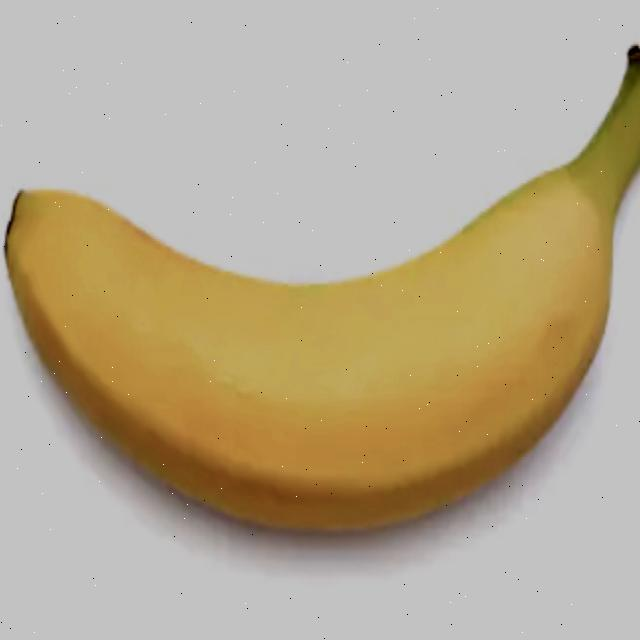Ripe: (0, 16, 640, 542)
